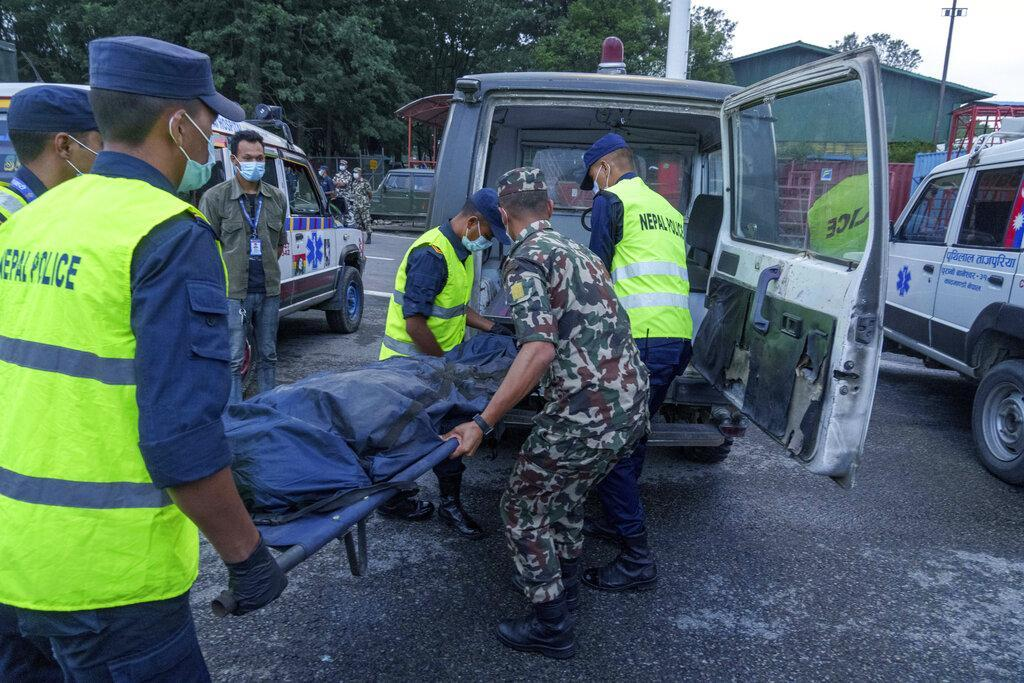ambulance: (383, 19, 871, 517), (860, 115, 1024, 505)
